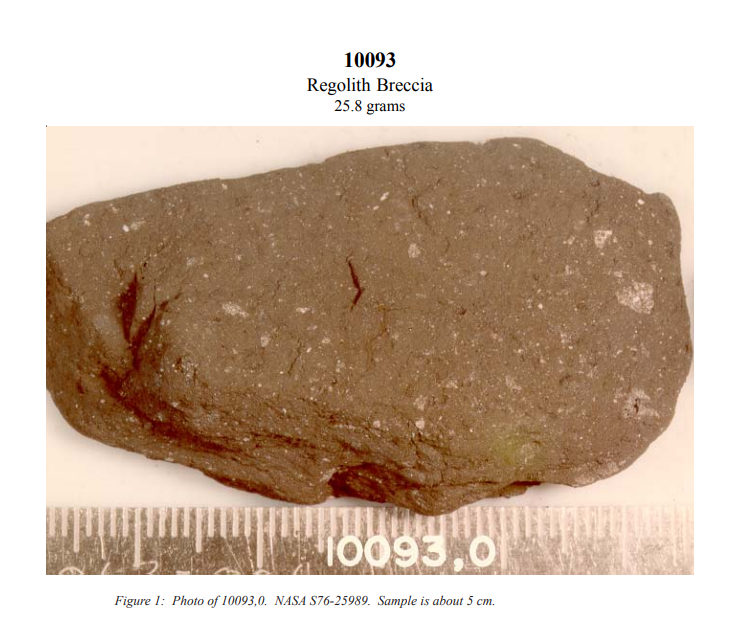Breccia: (48, 126, 687, 576)
